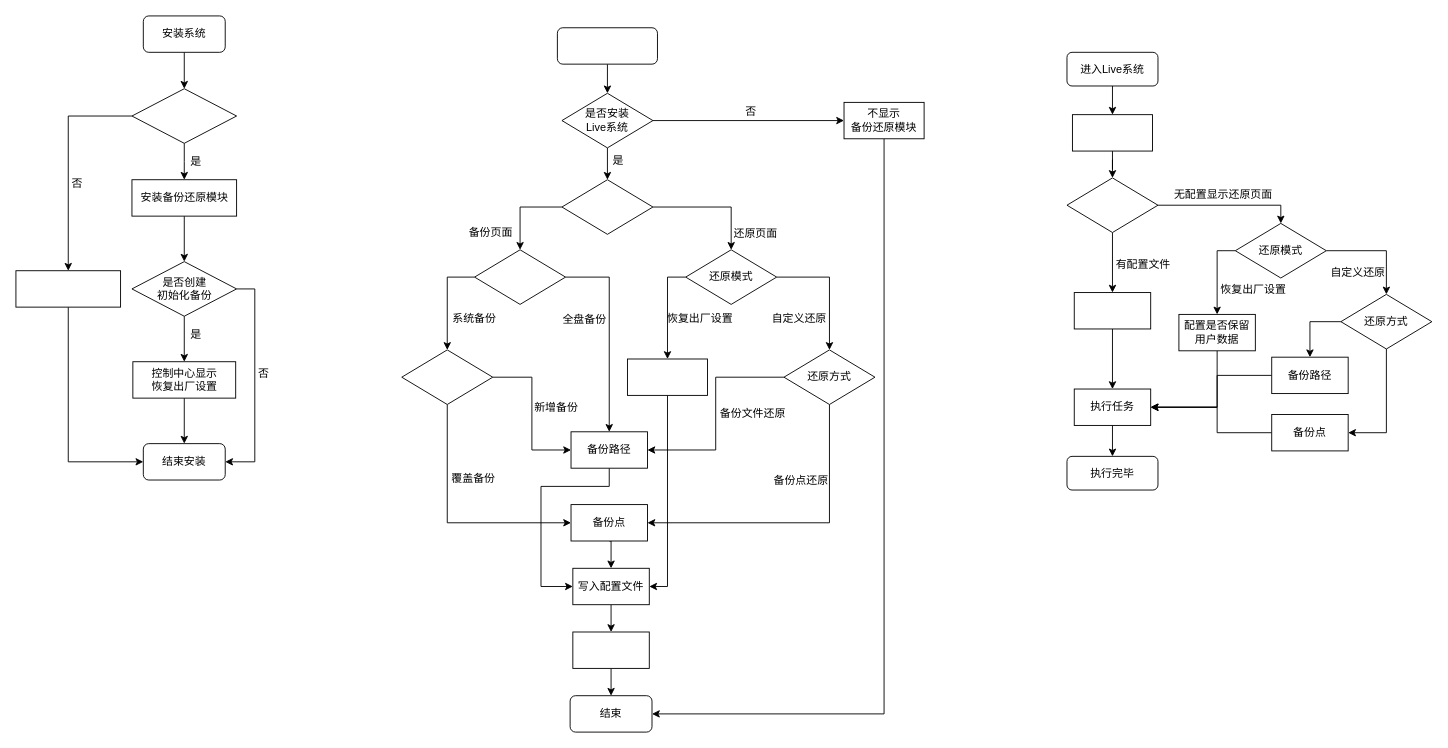
The diagram is 1448 pixels wide and 748 high, and some of its shapes have lost their labels. Each missing label, with the centre of its shape:
不安装备份还原模块: (x=68, y=288)
备份/还原: (x=607, y=206)
备份方式: (x=447, y=376)
备份模式: (x=520, y=276)
备份还原主程序自启: (x=1112, y=132)
打开控制中心: (x=606, y=45)
是否全盘安装: (x=184, y=115)
检查配置文件: (x=1112, y=205)
等待系统重启: (x=610, y=649)
读取配置并 创建任务: (x=1112, y=310)
配置是否 保留用户数据: (x=667, y=376)
